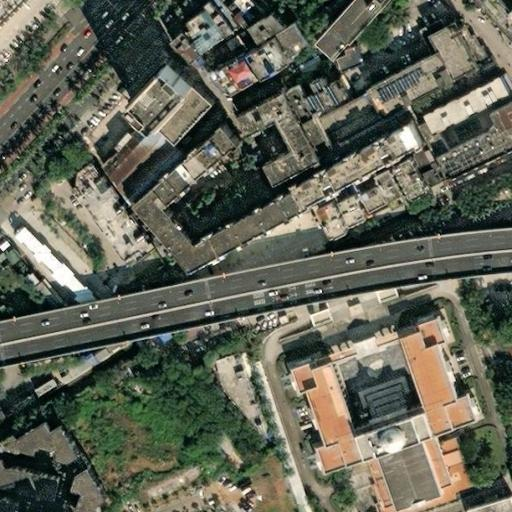building: (277, 310, 454, 399), (361, 25, 474, 124), (240, 363, 301, 512), (60, 166, 146, 266), (241, 100, 324, 194), (134, 197, 220, 281), (307, 365, 371, 471), (431, 105, 512, 184), (406, 336, 462, 440), (99, 131, 175, 206), (422, 77, 509, 137), (214, 356, 268, 450), (9, 230, 79, 298), (127, 62, 192, 129), (378, 446, 442, 512), (362, 413, 439, 463), (353, 367, 418, 423), (310, 95, 376, 150), (172, 12, 227, 70), (8, 420, 73, 462), (288, 171, 338, 212), (55, 467, 99, 512), (200, 61, 246, 103), (360, 137, 408, 176), (469, 0, 512, 43), (273, 18, 311, 65), (361, 461, 395, 512), (305, 443, 349, 482), (178, 148, 220, 188), (150, 173, 192, 213), (0, 465, 50, 498), (445, 393, 481, 435), (423, 442, 451, 491), (365, 168, 399, 208), (303, 86, 343, 120), (384, 160, 417, 200), (228, 205, 265, 240), (266, 44, 300, 81), (310, 29, 344, 64), (399, 121, 432, 157), (207, 225, 241, 258), (339, 152, 370, 187), (301, 121, 328, 160), (311, 205, 340, 241), (252, 189, 284, 221), (231, 60, 263, 92), (206, 133, 238, 164), (255, 54, 283, 88), (411, 22, 436, 56), (287, 91, 312, 125), (459, 494, 504, 512), (238, 0, 268, 27), (68, 352, 99, 377), (331, 47, 356, 74), (345, 188, 370, 213), (259, 28, 283, 53), (220, 22, 243, 46), (109, 136, 133, 158), (337, 491, 362, 512), (214, 1, 235, 25), (28, 381, 53, 401), (208, 5, 228, 27), (329, 170, 348, 192), (295, 56, 316, 75), (8, 397, 30, 415), (369, 287, 390, 303), (333, 196, 351, 213), (309, 81, 327, 97), (303, 312, 322, 327), (237, 15, 253, 31), (326, 202, 338, 217), (100, 349, 115, 358), (54, 377, 63, 385)
